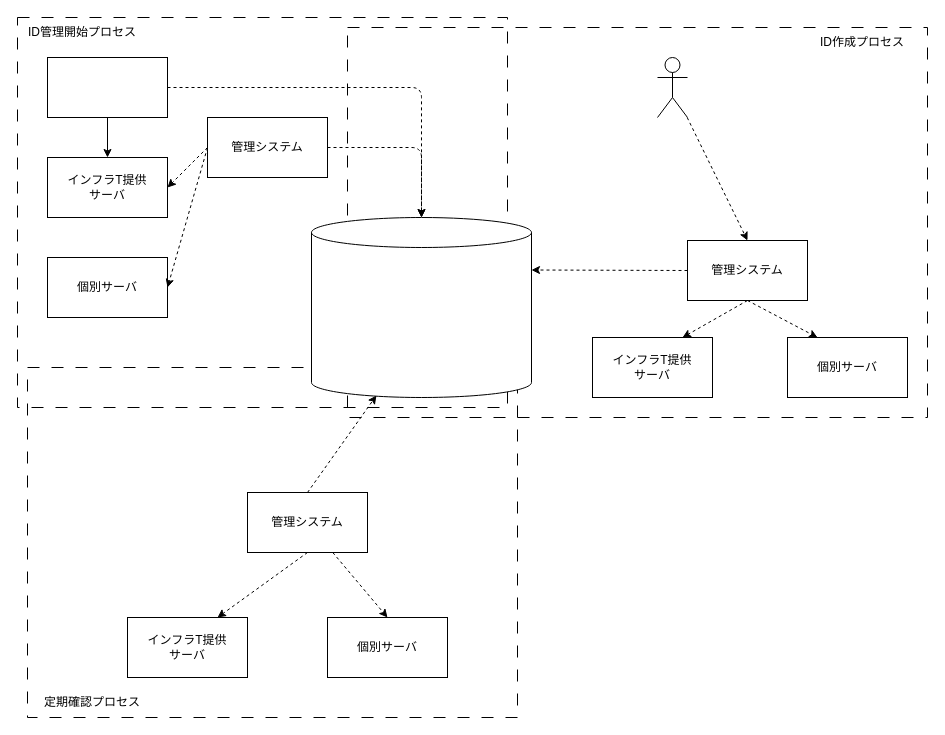
Some shapes in this 945 by 735 pixel diagram are drawn without their labels. Each missing label, with the centre of its shape:
GitHub いろんなシステムのID設計: [421,307]
インフラT: [107,87]
利用者: [672,87]
